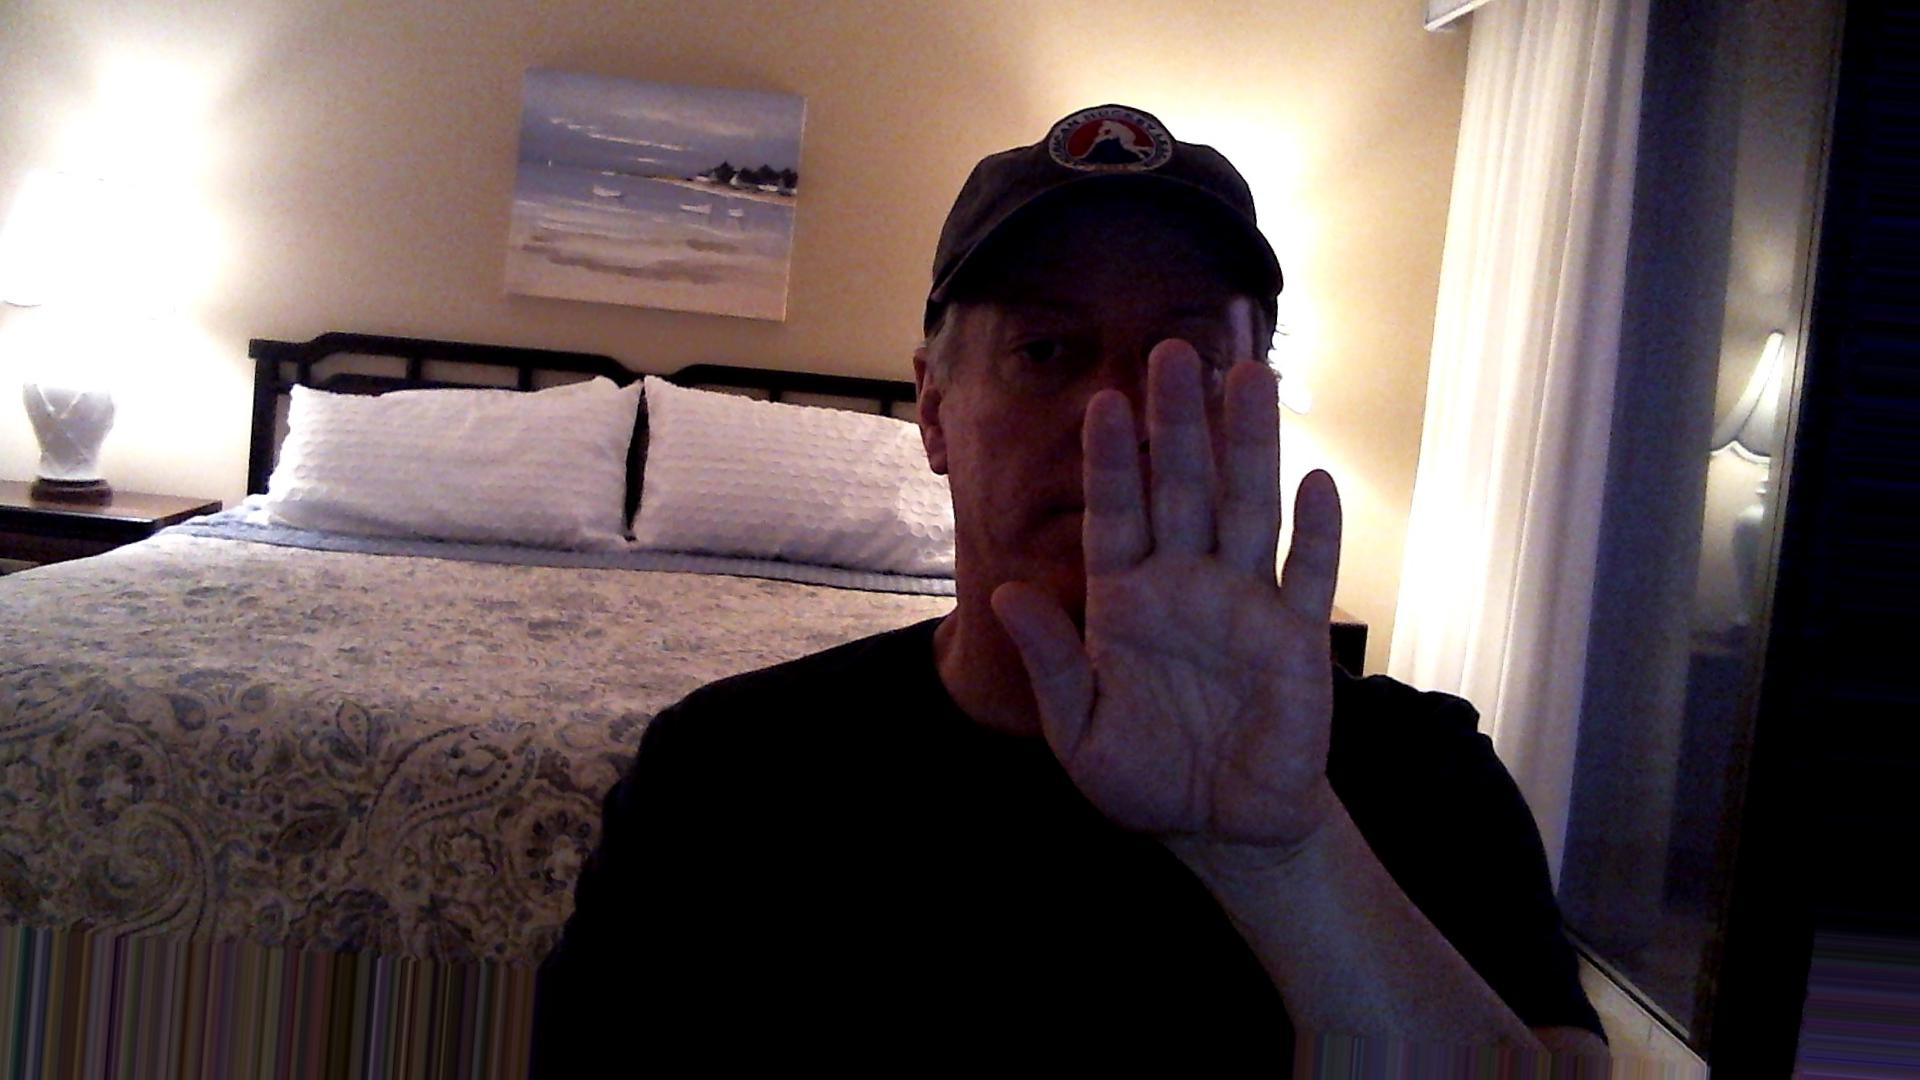Hello: (961, 328, 1393, 864)
